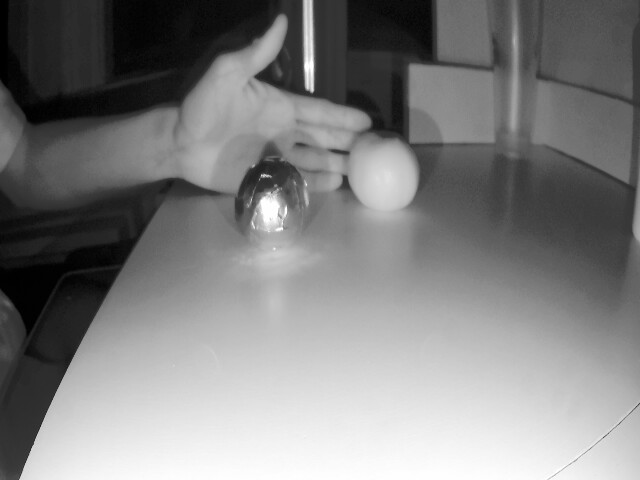silver: (229, 150, 313, 256)
